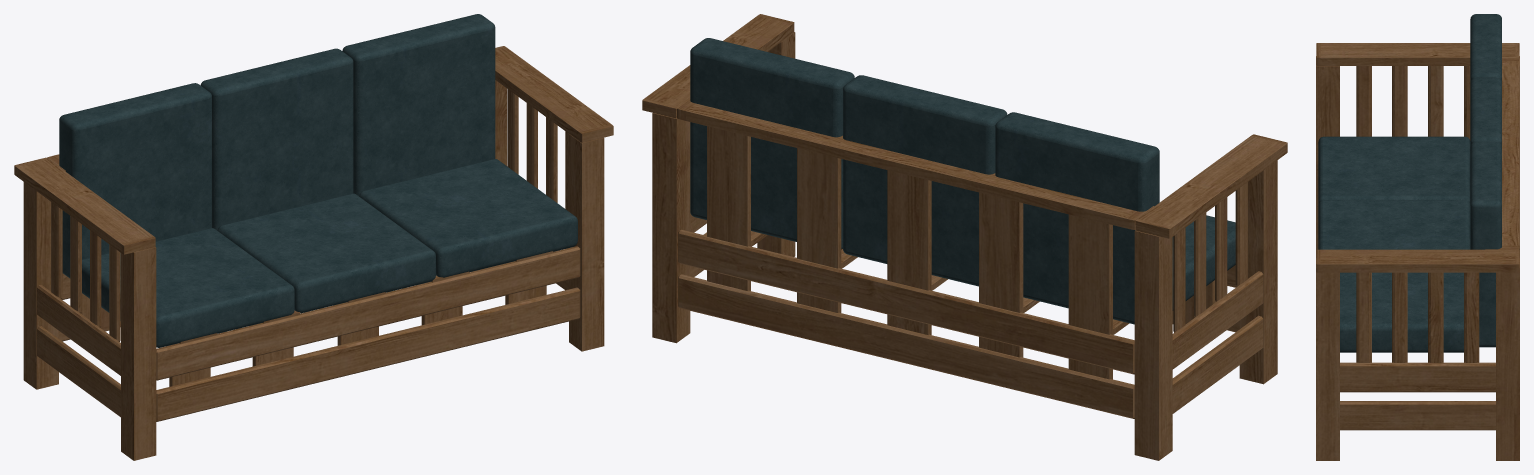
Rendered from A23DMOD_FBX.fbx.
3 renders of one model, left to right at view 1: azimuth 30°, elevation 25°; view 2: azimuth 150°, elevation 25°; view 3: azimuth 270°, elevation 25°, orthographic. The views are drawn at different scales.
Visible parts, largest first — view 1: A23DOBJ_001; view 2: A23DOBJ_001; view 3: A23DOBJ_001.
Boxes of the visible parts, <box> form: A23DOBJ_001: <box>14,14,613,460</box>; A23DOBJ_001: <box>642,14,1287,460</box>; A23DOBJ_001: <box>1316,14,1519,460</box>.
Bounding box in the file's own units: 174 × 90.54 × 67.68.
2 materials, 2 textured.
